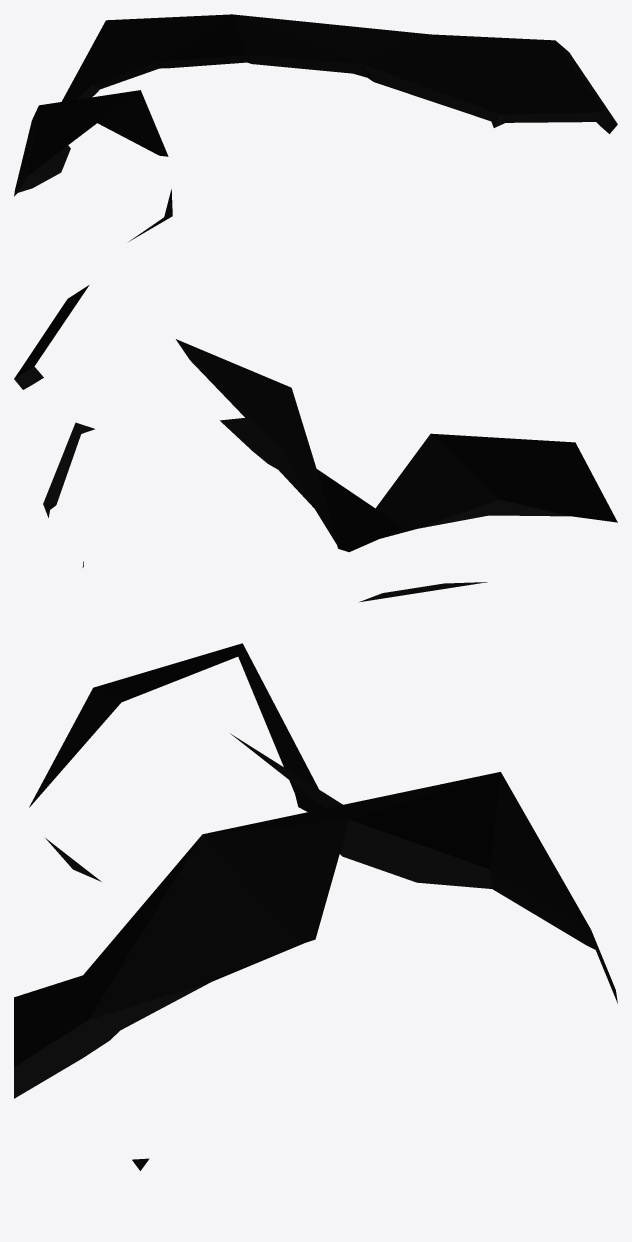
3 views of the same model, one above another, from view 1: azimuth 30°, elevation 25°; view 2: azimuth 150°, elevation 25°; view 3: azimuth 270°, elevation 25° (orthographic). The views are drawn at different scales.
Bounding box in the file's own units: 0.6121 × 0.1141 × 0.3657.
1 material, 1 textured.
